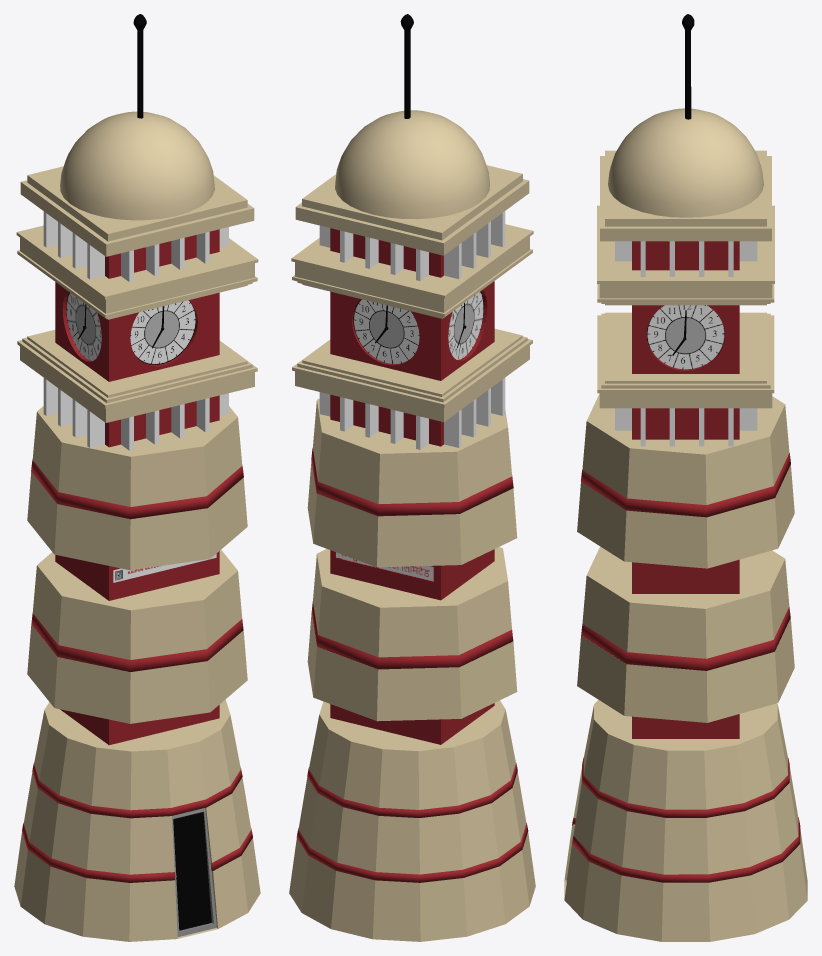
Rendered from proclocktower.fbx.
3 views of the same model, side by side, from view 1: azimuth 30°, elevation 25°; view 2: azimuth 150°, elevation 25°; view 3: azimuth 270°, elevation 25° (orthographic).
Parts seen in each view (by area): view 1: Circle, Circle.001, Circle.005, Cube, Sphere, Cube.001, Cube.006, Cube.007, Plane.009, clock.002, Circle.006, Circle.002 (+10 smaller); view 2: Circle, Circle.001, Circle.005, Cube, Sphere, Cube.001, Cube.006, Cube.007, clock.003, Circle.006, Circle.002, Circle.004 (+8 smaller); view 3: Circle, Circle.001, Circle.005, Cube, Sphere, Cube.001, Cube.006, Cube.007, clock, Circle.006, Circle.002, Circle.004 (+4 smaller).
Part boxes in pixels (bbox=[...]): Circle: bbox=[14, 699, 260, 941]; Circle.001: bbox=[27, 550, 247, 723]; Circle.005: bbox=[27, 406, 247, 570]; Cube: bbox=[55, 229, 219, 745]; Sphere: bbox=[60, 111, 214, 220]; Cube.001: bbox=[17, 330, 257, 422]; Cube.006: bbox=[16, 225, 258, 319]; Cube.007: bbox=[20, 166, 254, 256]; Plane.009: bbox=[173, 812, 211, 930]; clock.002: bbox=[130, 300, 196, 364]; Circle.006: bbox=[31, 460, 243, 519]; Circle.002: bbox=[31, 613, 243, 671]; Circle: bbox=[289, 700, 535, 941]; Circle.001: bbox=[307, 547, 517, 721]; Circle.005: bbox=[307, 398, 517, 567]; Cube: bbox=[330, 228, 494, 744]; Sphere: bbox=[335, 110, 489, 219]; Cube.001: bbox=[292, 328, 532, 422]; Cube.006: bbox=[291, 224, 533, 318]; Cube.007: bbox=[295, 165, 529, 255]; clock.003: bbox=[353, 299, 419, 364]; Circle.006: bbox=[311, 448, 513, 516]; Circle.002: bbox=[311, 601, 513, 669]; Circle.004: bbox=[296, 823, 528, 882]; Circle: bbox=[564, 700, 807, 941]; Circle.001: bbox=[577, 546, 794, 722]; Circle.005: bbox=[577, 394, 794, 568]; Cube: bbox=[632, 241, 739, 738]; Sphere: bbox=[608, 108, 763, 217]; Cube.001: bbox=[597, 312, 774, 408]; Cube.006: bbox=[597, 205, 774, 305]; Cube.007: bbox=[600, 150, 771, 241]; clock: bbox=[647, 305, 724, 369]; Circle.006: bbox=[581, 452, 790, 517]; Circle.002: bbox=[581, 607, 790, 670]; Circle.004: bbox=[572, 817, 800, 882].
Size of the model in its own units: 1030 by 4108 by 1030.
